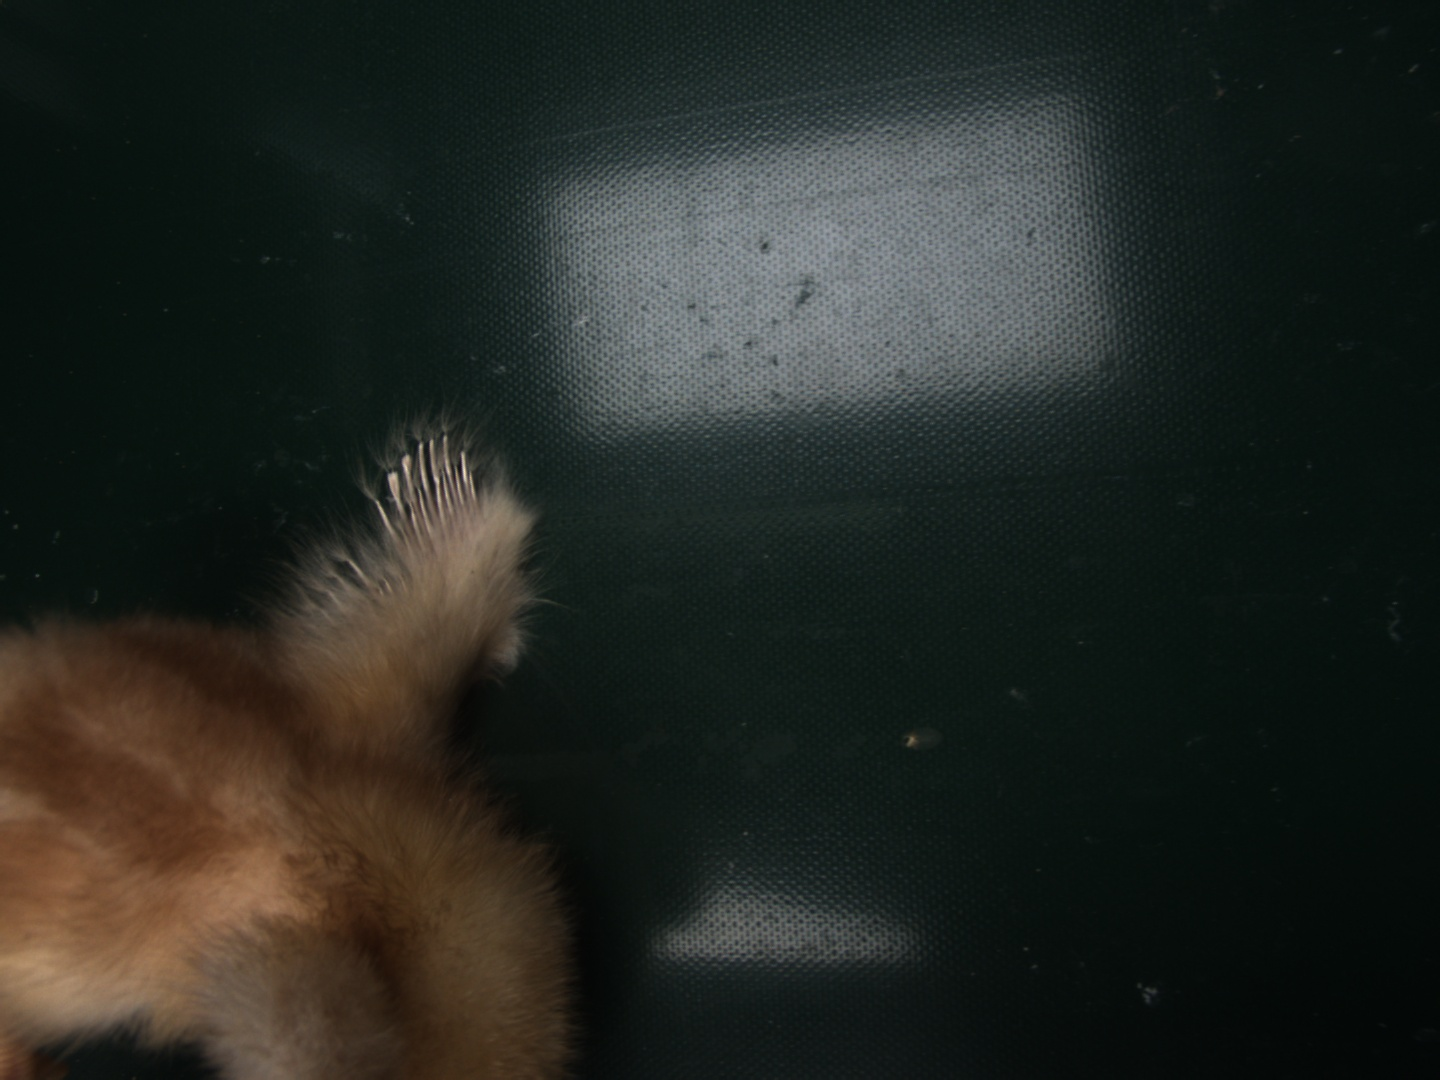female: (372, 434, 477, 548)
